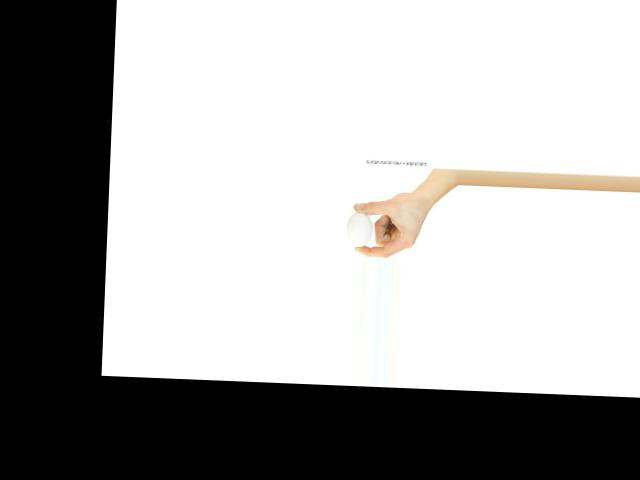egg: (347, 211, 373, 247)
